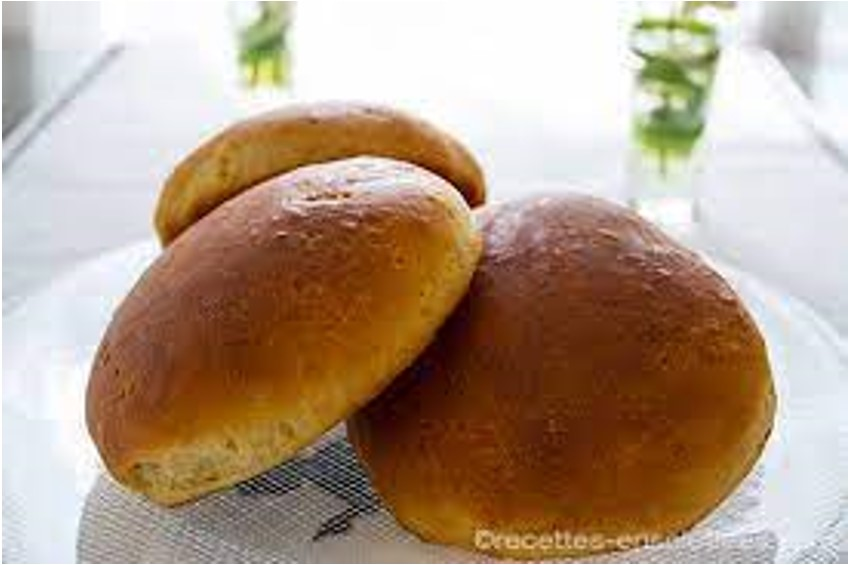Makatsia coco: (344, 189, 802, 556), (58, 159, 500, 508), (122, 99, 533, 262)
